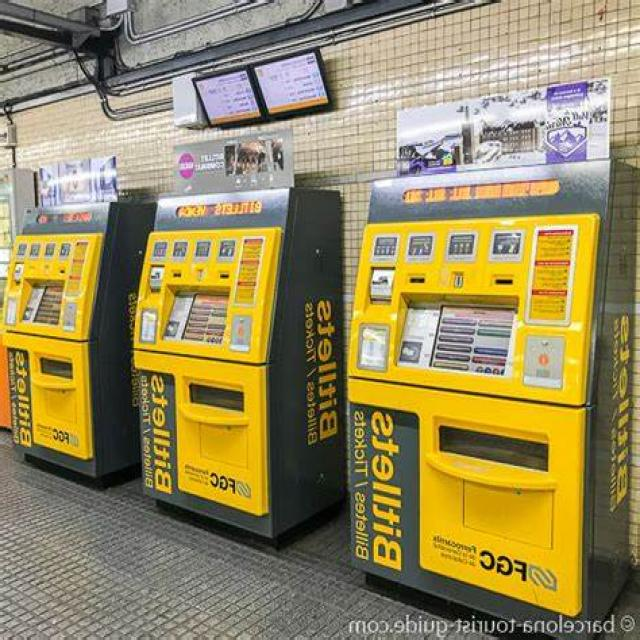tickets-maquina: (348, 161, 635, 620), (134, 188, 341, 538), (4, 203, 154, 477)
